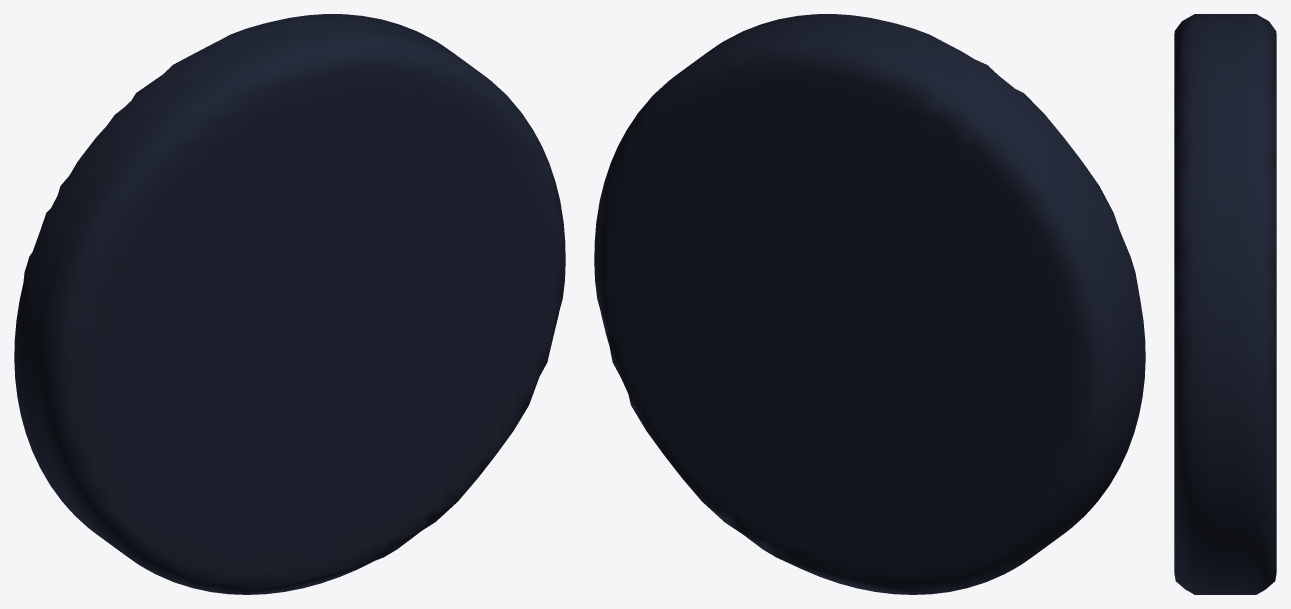
Rendered from 020_spatial_camera_optical_cover.glb.
3 views of the same model, side by side, from view 1: azimuth 30°, elevation 25°; view 2: azimuth 150°, elevation 25°; view 3: azimuth 270°, elevation 25° (orthographic). The views are drawn at different scales.
Visible parts, largest first — view 1: 020 | Spatial Camera Optical Cover; view 2: 020 | Spatial Camera Optical Cover; view 3: 020 | Spatial Camera Optical Cover.
Boxes of the visible parts, left/top/right/bottom form: 020 | Spatial Camera Optical Cover: left=14, top=14, right=565, bottom=594; 020 | Spatial Camera Optical Cover: left=594, top=14, right=1145, bottom=594; 020 | Spatial Camera Optical Cover: left=1174, top=14, right=1276, bottom=594.
Size of the model in its own units: 0.0034 by 0.0034 by 0.0006.
